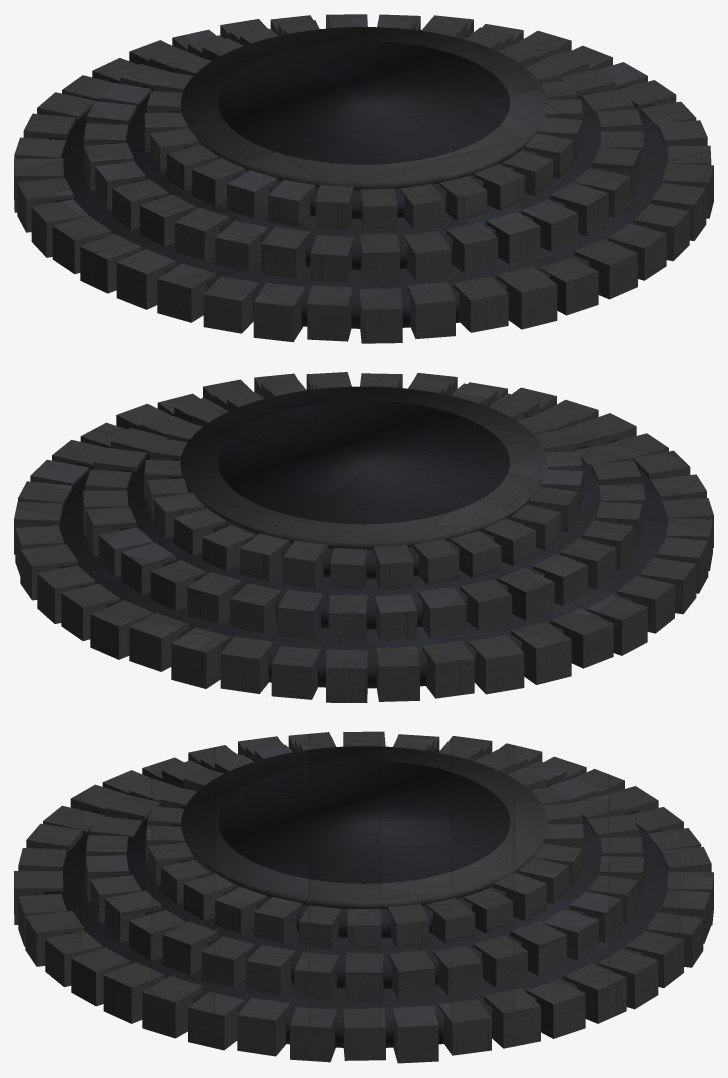
The model's file is altar_dais.glb.
3 renders of one model, top to bottom at view 1: azimuth 30°, elevation 25°; view 2: azimuth 150°, elevation 25°; view 3: azimuth 270°, elevation 25°, orthographic.
Visible parts, largest first — view 1: dais_stone; view 2: dais_stone; view 3: dais_stone.
Part boxes in pixels (<box>): dais_stone: <box>14,14,713,343</box>; dais_stone: <box>14,372,713,702</box>; dais_stone: <box>14,731,713,1063</box>.
Bounding box in the file's own units: 3.73 × 0.5585 × 3.74.
2 materials, 2 textured.
